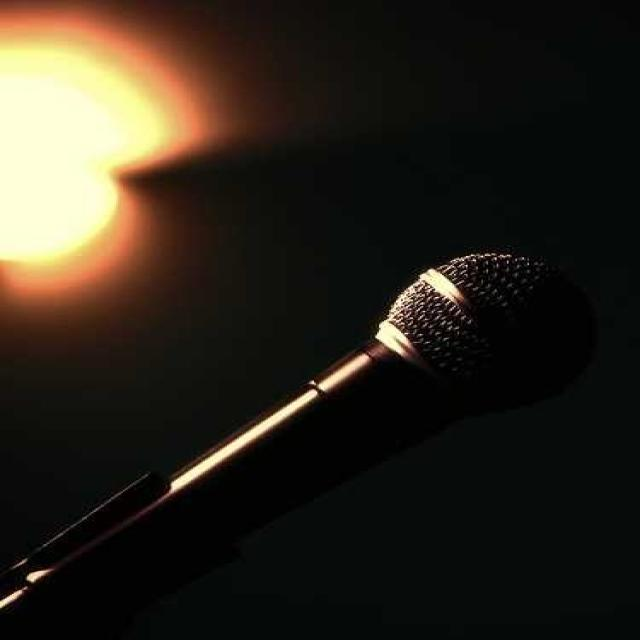microphone: (14, 250, 588, 621)
